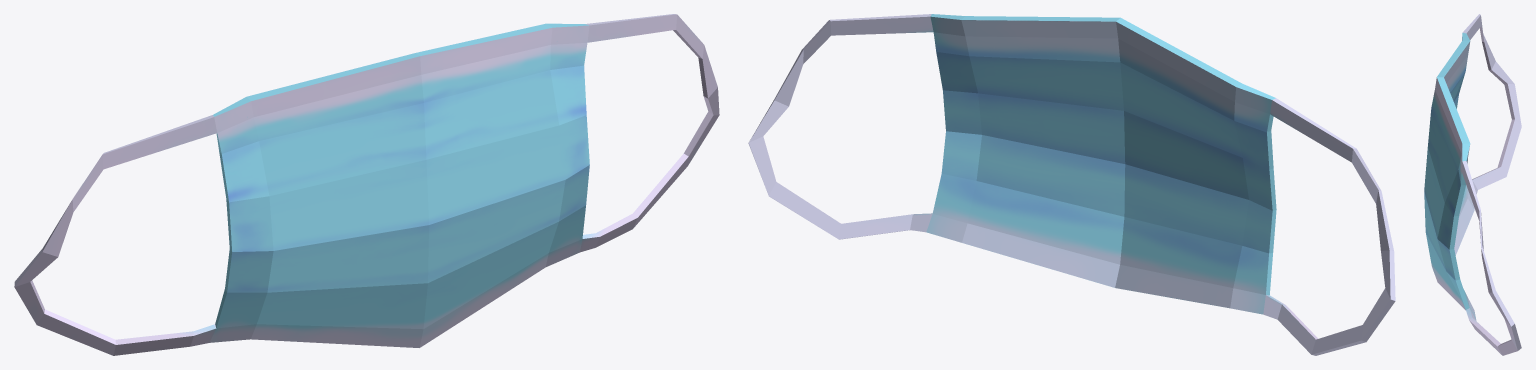
The model's file is mascarilla.fbx.
3 views of the same model, side by side, from view 1: azimuth 30°, elevation 25°; view 2: azimuth 150°, elevation 25°; view 3: azimuth 270°, elevation 25° (orthographic). The views are drawn at different scales.
Visible parts, largest first — view 1: Cube; view 2: Cube; view 3: Cube.
Boxes of the visible parts, box(x1,y1,x2,y2) form: Cube: box(14, 14, 719, 355); Cube: box(748, 14, 1395, 355); Cube: box(1424, 14, 1521, 355).
Bounding box in the file's own units: 682 × 270 × 117.
Materials: 1 (1 with a texture image).
